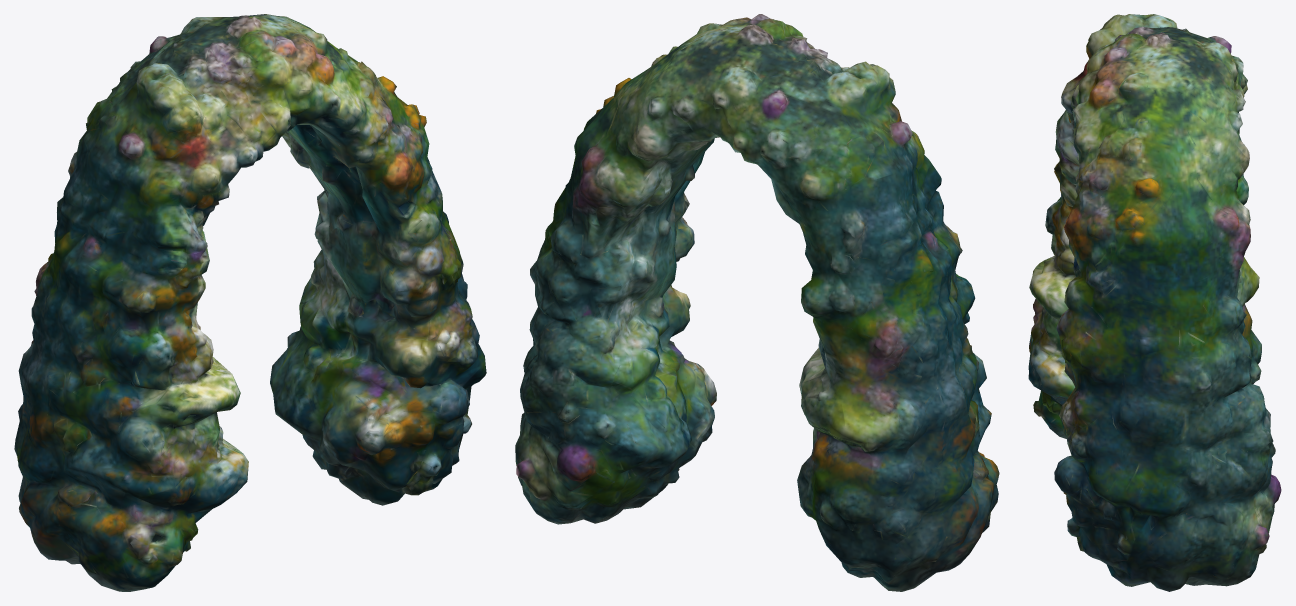
File: coral-arch.glb
3 views of the same model, side by side, from view 1: azimuth 30°, elevation 25°; view 2: azimuth 150°, elevation 25°; view 3: azimuth 270°, elevation 25° (orthographic). The views are drawn at different scales.
Visible parts, largest first — view 1: Mesh1.0; view 2: Mesh1.0; view 3: Mesh1.0.
Boxes of the visible parts, bbox=[...] form: Mesh1.0: bbox=[14, 14, 486, 591]; Mesh1.0: bbox=[515, 14, 999, 591]; Mesh1.0: bbox=[1028, 14, 1281, 591].
Bounding box in the file's own units: 1.72 × 1.91 × 0.9064.
1 material, 1 textured.
